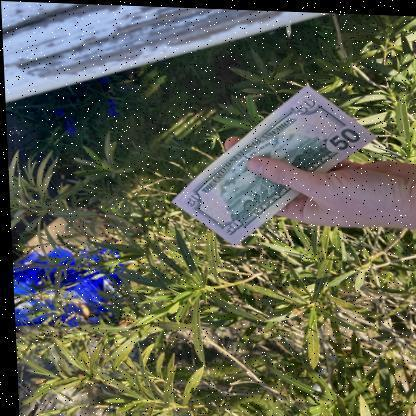dollar_back: (168, 81, 373, 244)
